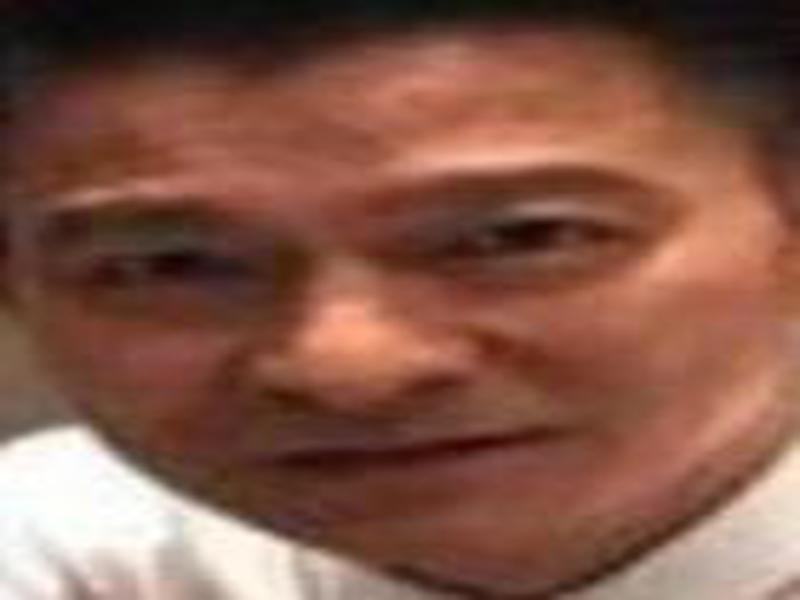without_mask: (4, 72, 772, 587)
